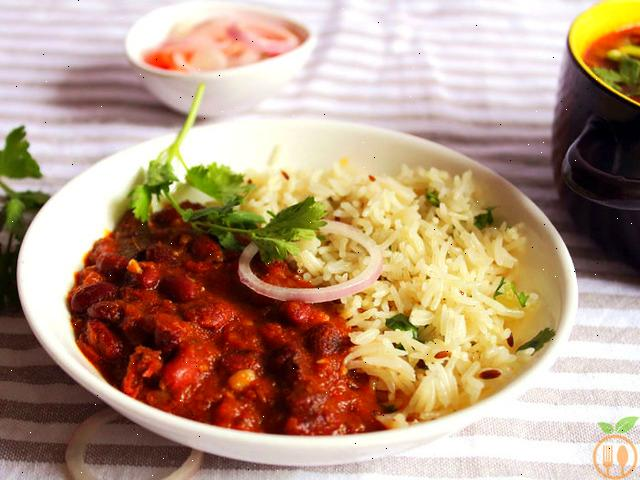rajma: (99, 218, 310, 421)
rice: (315, 175, 558, 390)
